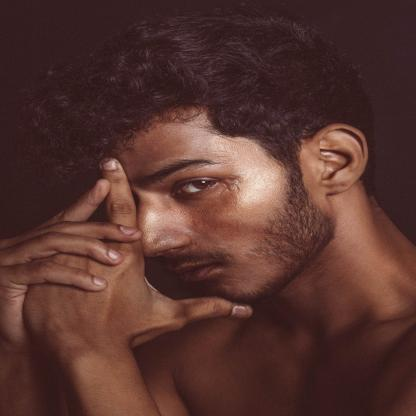Eye: (162, 173, 225, 205)
Mouth: (166, 258, 230, 288)
Nose: (136, 202, 196, 257)
